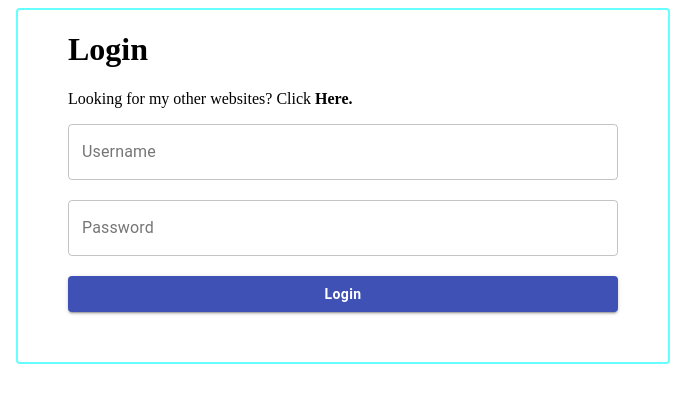
LoginFormPage › displays the error message if you click the button after typing in a wrong username AND a wrong password
Type "a" into the field labelled "Username" at (343, 152), box [68,124,618,180]
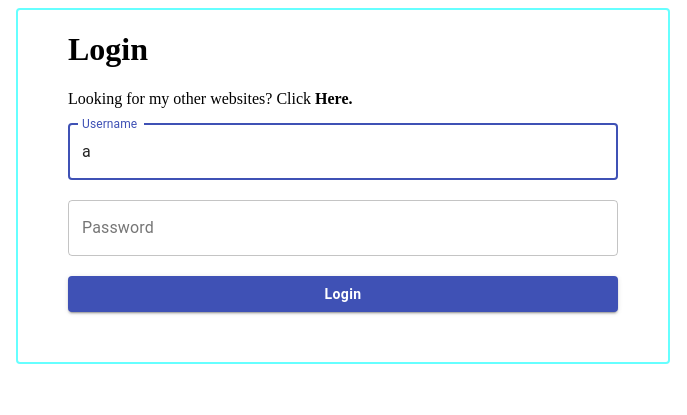
Type "-1" into the field labelled "Password" at (343, 228), box [68,200,618,256]
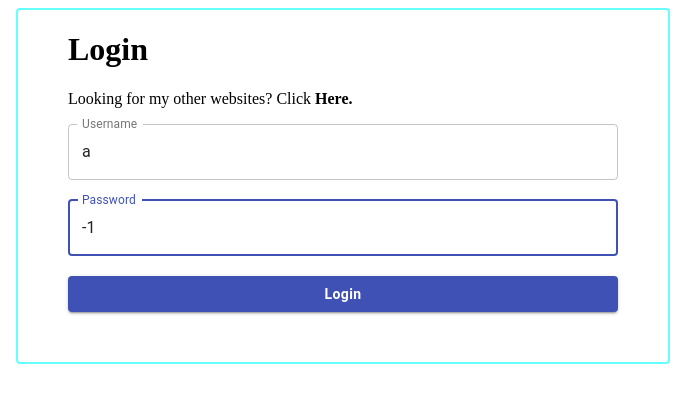
Click the button at (343, 294), box [68,276,618,312]
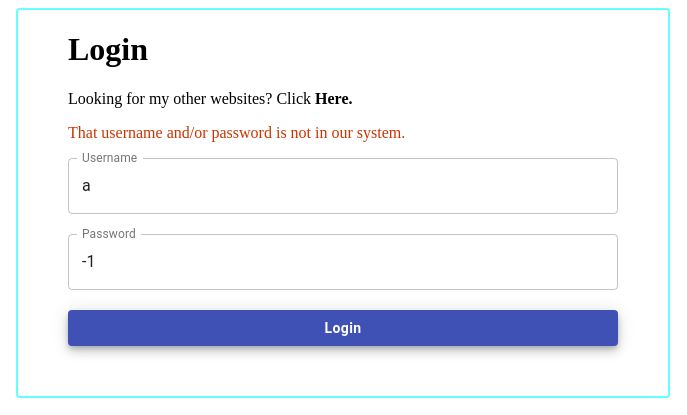
Now the text "That username and/or password is not in our system." is shown, box [68,124,405,141]
